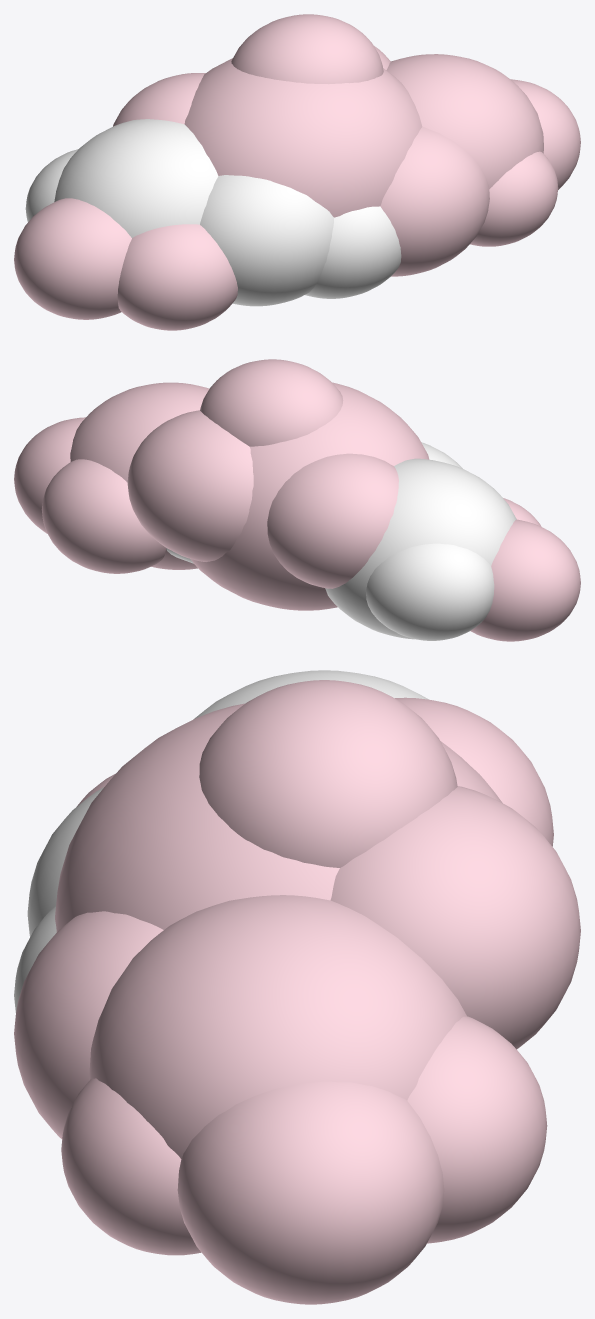
File: cotton_candy_cloud_big.glb
The picture shows the model from 3 angles, top to bottom: view 1: azimuth 30°, elevation 25°; view 2: azimuth 150°, elevation 25°; view 3: azimuth 270°, elevation 25°; orthographic projection. The views are drawn at different scales.
Parts seen in each view (by area): view 1: cotton_candy_cloud_big; view 2: cotton_candy_cloud_big; view 3: cotton_candy_cloud_big.
Part boxes in pixels (left/top/right/bottom): cotton_candy_cloud_big: left=14, top=14, right=580, bottom=330; cotton_candy_cloud_big: left=14, top=359, right=580, bottom=641; cotton_candy_cloud_big: left=14, top=670, right=580, bottom=1304.
Bounding box in the file's own units: 8.8 × 3.56 × 4.2.
